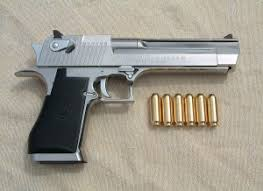Arma Real: (14, 29, 240, 164)
